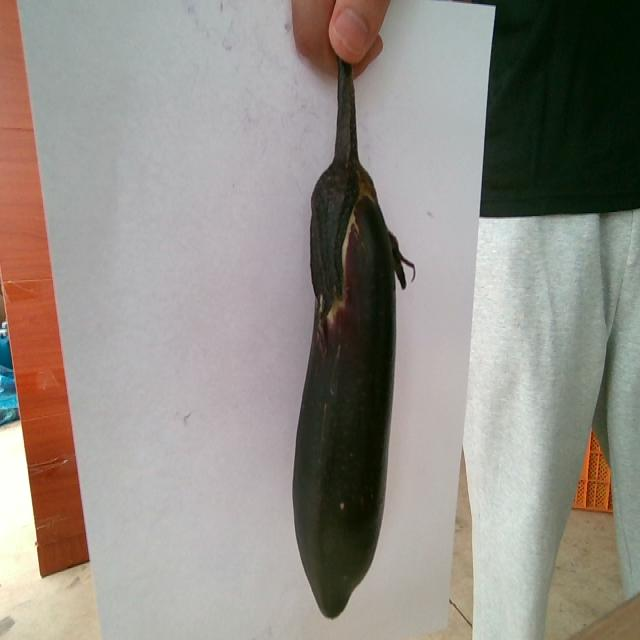Egg plant: (293, 60, 413, 616)
